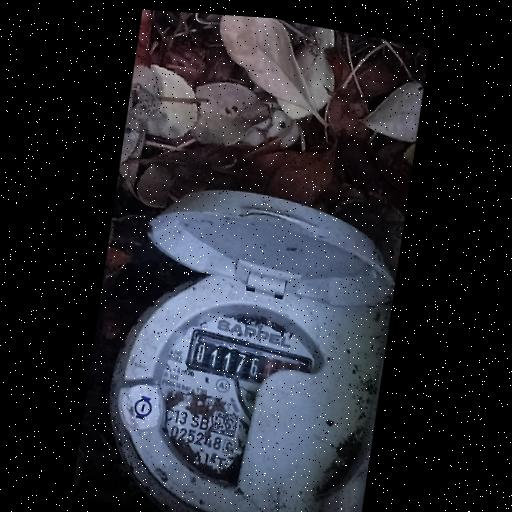0: (192, 339, 210, 369)
1: (259, 356, 278, 387), (205, 342, 224, 372), (218, 346, 237, 375)
6: (244, 352, 265, 384)
7: (231, 349, 252, 380)
border_water_meter_number: (190, 333, 309, 395)
